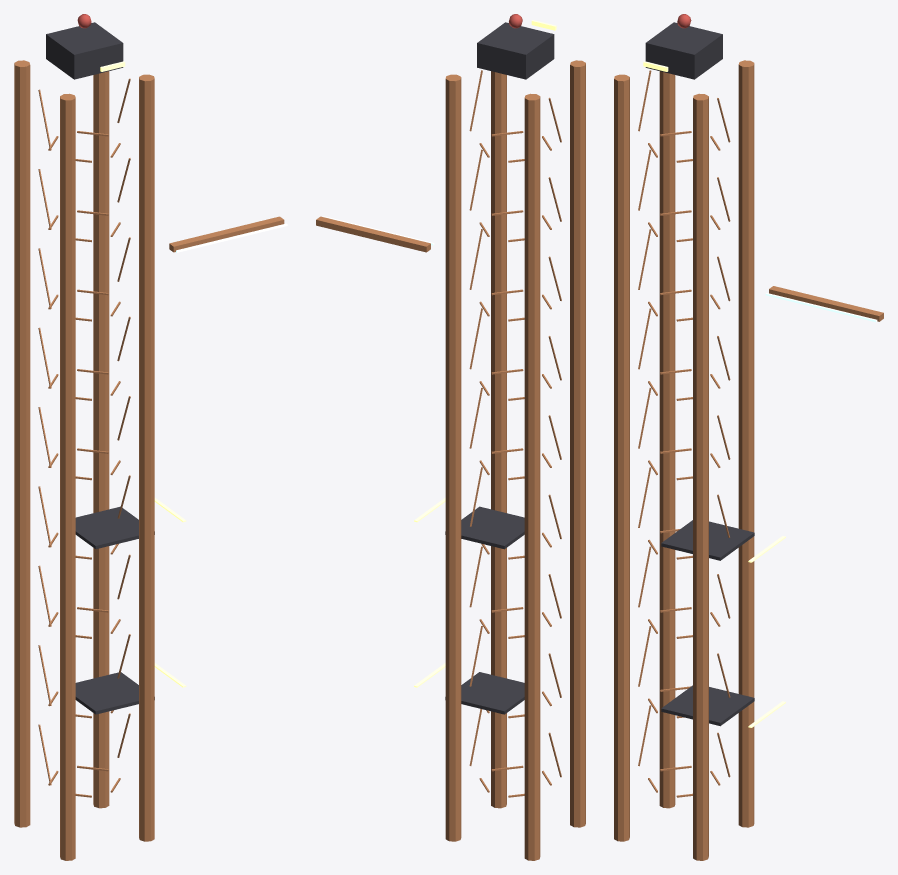
File: launch_tower.glb
3 views of the same model, side by side, from view 1: azimuth 30°, elevation 25°; view 2: azimuth 150°, elevation 25°; view 3: azimuth 330°, elevation 25° (orthographic).
Visible parts, largest first — view 1: leg.001, leg.002, leg, leg.003, cab, platform, platform.001, service_arm; view 2: leg.003, leg.001, leg, leg.002, cab, platform, platform.001, service_arm; view 3: leg.003, leg, leg.002, leg.001, cab, platform, platform.001, service_arm.
Boxes of the visible parts, <box> form: leg.001: <box>14,60,30,827</box>; leg.002: <box>139,74,154,841</box>; leg: <box>60,93,75,860</box>; leg.003: <box>93,71,109,808</box>; cab: <box>46,22,123,79</box>; platform: <box>75,672,154,714</box>; platform.001: <box>75,506,154,549</box>; service_arm: <box>169,216,284,252</box>; leg.003: <box>445,74,461,841</box>; leg.001: <box>524,93,540,860</box>; leg: <box>570,60,585,827</box>; leg.002: <box>491,71,506,808</box>; cab: <box>477,22,554,79</box>; platform: <box>445,672,524,714</box>; platform.001: <box>445,506,524,549</box>; service_arm: <box>316,216,430,252</box>; leg.003: <box>738,60,754,827</box>; leg: <box>614,74,629,841</box>; leg.002: <box>693,93,708,860</box>; leg.001: <box>659,71,675,808</box>; cab: <box>645,22,722,79</box>; platform: <box>661,685,754,726</box>; platform.001: <box>661,520,754,560</box>; service_arm: <box>769,286,883,321</box>.
Size of the model in its own units: 15.45 by 49.4 by 6.12.
